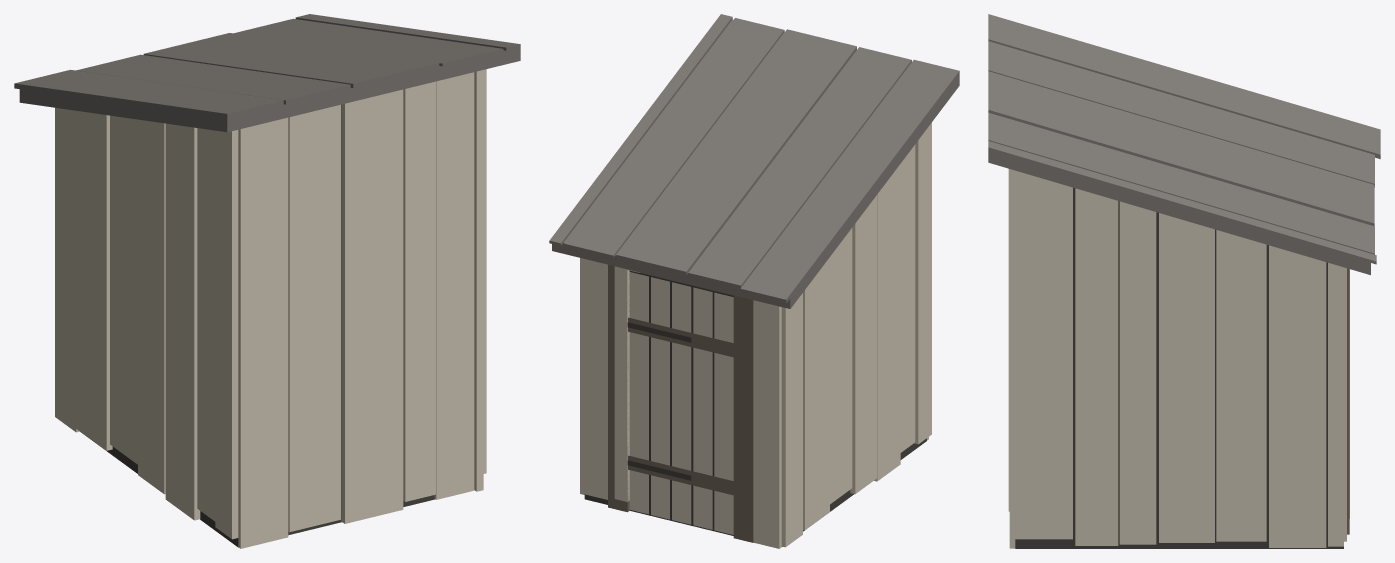
File: recon_1835_blk_washington_clark_a3_10__inferred_1835.glb
3 renders of one model, left to right at view 1: azimuth 30°, elevation 25°; view 2: azimuth 150°, elevation 25°; view 3: azimuth 270°, elevation 25°, orthographic. The views are drawn at different scales.
Parts seen in each view (by area): view 1: recon_1835_blk_washington_clark_a3_10__inferred_1835; view 2: recon_1835_blk_washington_clark_a3_10__inferred_1835; view 3: recon_1835_blk_washington_clark_a3_10__inferred_1835.
Boxes of the visible parts, x1,y1,x2,y2 form: recon_1835_blk_washington_clark_a3_10__inferred_1835: (14,14,520,548); recon_1835_blk_washington_clark_a3_10__inferred_1835: (549,14,959,548); recon_1835_blk_washington_clark_a3_10__inferred_1835: (988,14,1380,548).
Size of the model in its own units: 1.94 by 2.84 by 2.44.
